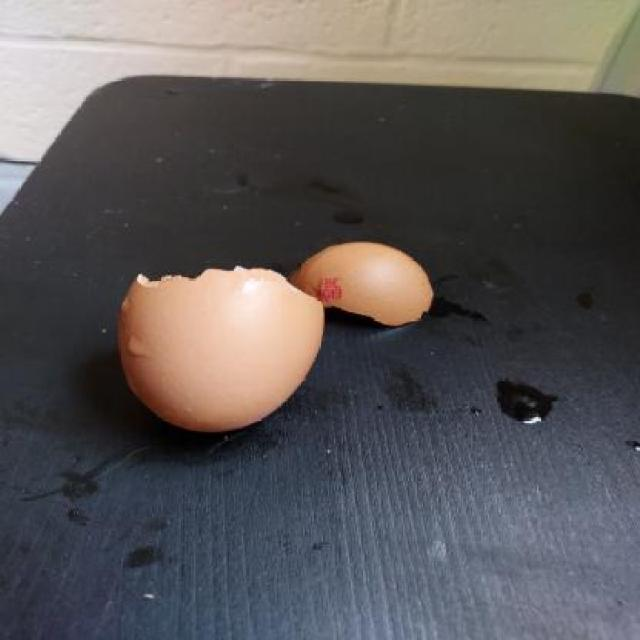biodegradable: (114, 263, 332, 432), (291, 236, 438, 335)
